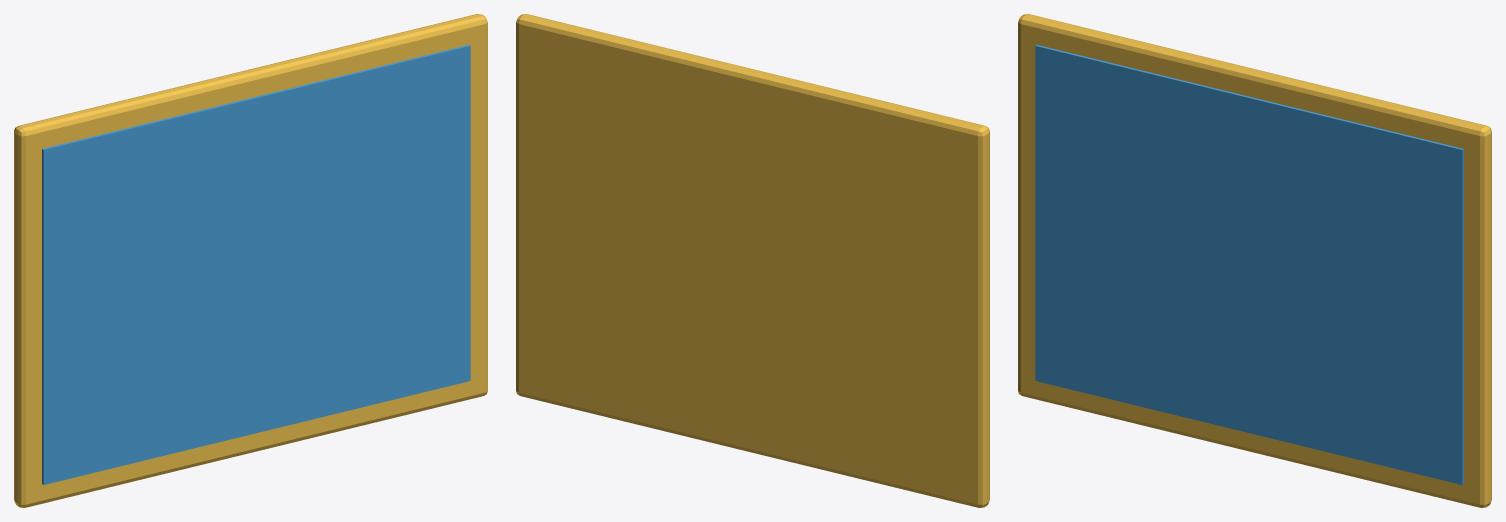
Rendered from bild.glb.
3 views of the same model, side by side, from view 1: azimuth 30°, elevation 25°; view 2: azimuth 150°, elevation 25°; view 3: azimuth 330°, elevation 25° (orthographic).
Visible parts, largest first — view 1: Cube.001, Cube; view 2: Cube; view 3: Cube.001, Cube.
Part boxes in pixels (<box>): Cube.001: <box>42,45,470,484</box>; Cube: <box>14,14,487,507</box>; Cube: <box>516,14,989,507</box>; Cube.001: <box>1035,45,1463,484</box>; Cube: <box>1018,14,1491,507</box>.
Size of the model in its own units: 0.88 by 0.68 by 0.035.
